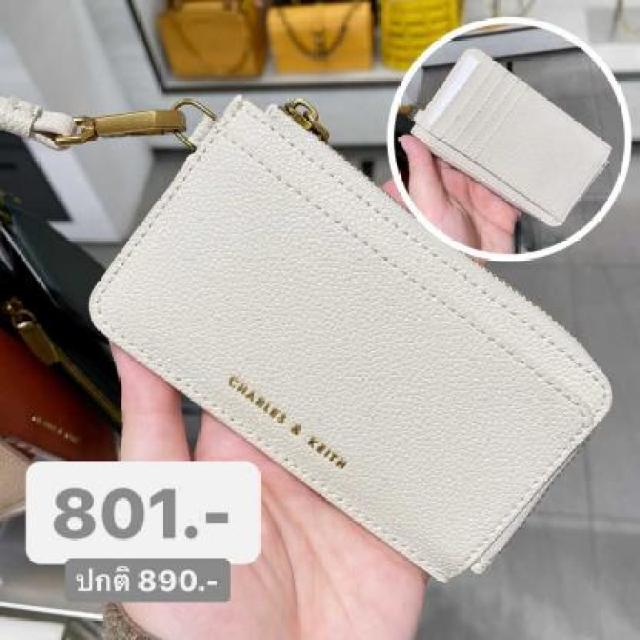Bag: (78, 61, 640, 634)
